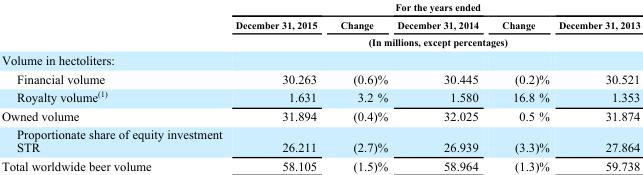table: (0, 0, 639, 172)
table column: (0, 0, 228, 172), (228, 0, 328, 172), (391, 0, 489, 172), (553, 0, 639, 172), (489, 0, 553, 172), (328, 0, 391, 172)
table column header: (0, 0, 639, 49)
table projected row header: (0, 49, 639, 68)
table row: (0, 125, 639, 155), (0, 86, 639, 106), (0, 49, 639, 68), (0, 106, 639, 125), (0, 68, 639, 86), (0, 15, 639, 32), (0, 32, 639, 49), (0, 155, 639, 172), (0, 0, 639, 15)
table spanning cell: (228, 32, 639, 49), (228, 0, 639, 15)
